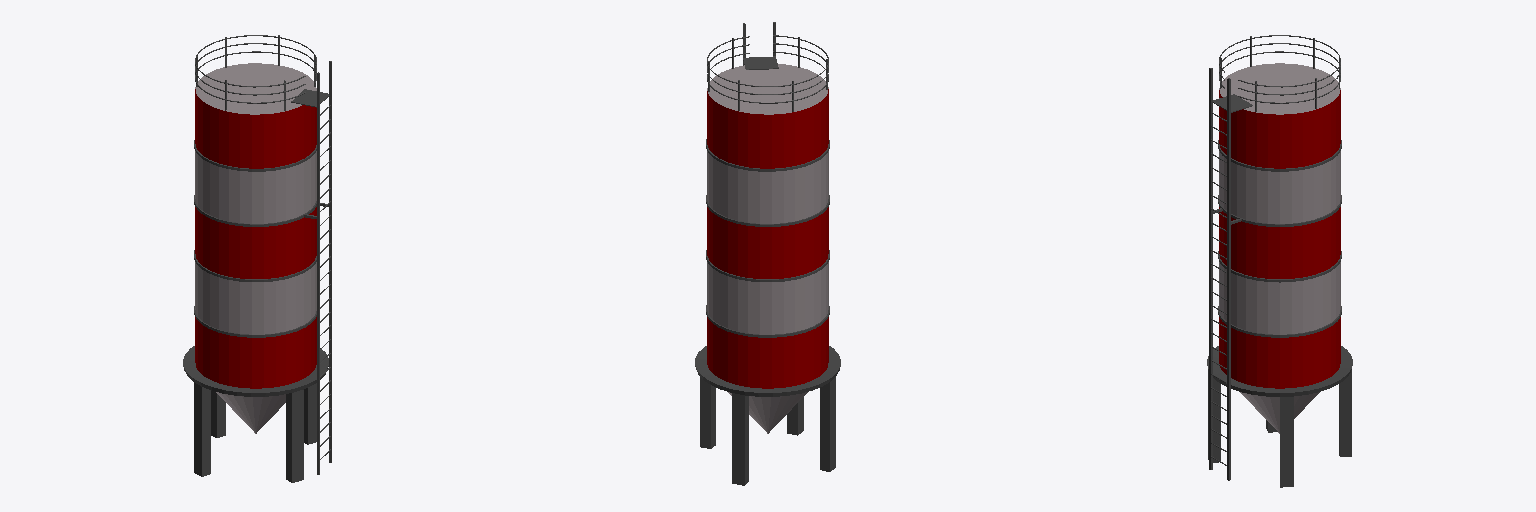
File: RawFoodStorage.obj
3 renders of one model, left to right at view 1: azimuth 30°, elevation 25°; view 2: azimuth 150°, elevation 25°; view 3: azimuth 270°, elevation 25°, orthographic.
Visible parts, largest first — view 1: Silo; view 2: Silo; view 3: Silo.
Boxes of the visible parts, x1,y1,x2,y2 form: Silo: [183, 35, 331, 482]; Silo: [695, 22, 840, 485]; Silo: [1207, 35, 1352, 487].
Size of the model in its own units: 2.41 by 7.31 by 2.41.